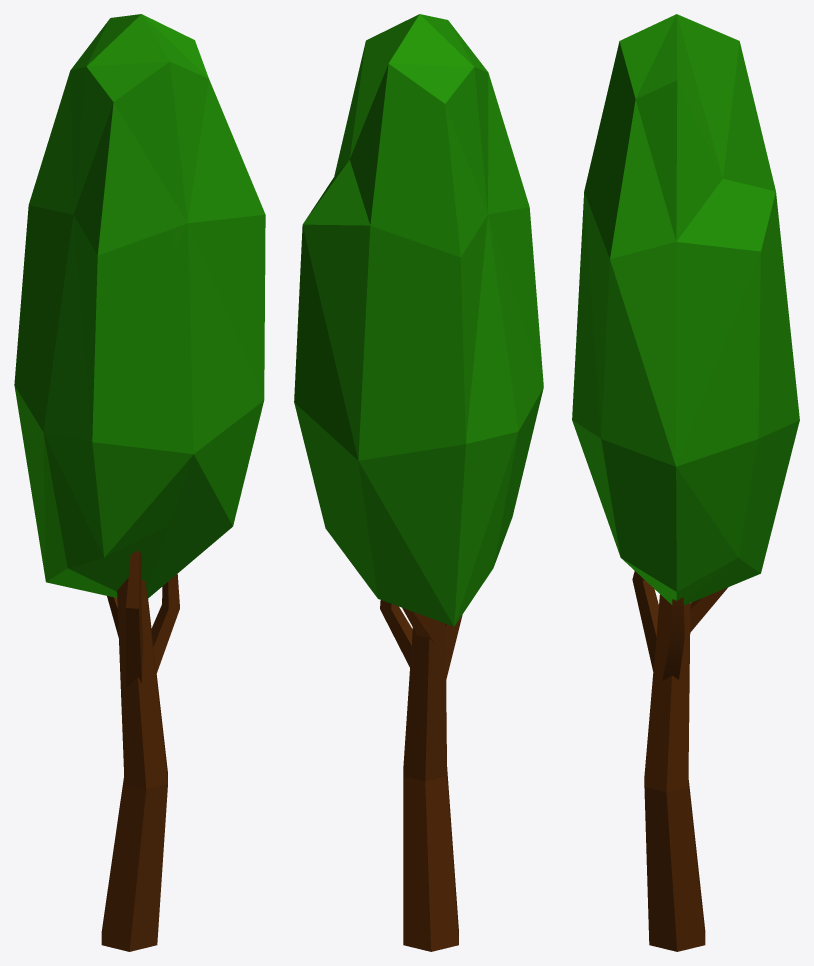
Rendered from Tree_temp_climate_004.FBX.
3 views of the same model, side by side, from view 1: azimuth 30°, elevation 25°; view 2: azimuth 150°, elevation 25°; view 3: azimuth 270°, elevation 25° (orthographic).
Visible parts, largest first — view 1: Tree_temp_climate_004; view 2: Tree_temp_climate_004; view 3: Tree_temp_climate_004.
Part boxes in pixels (x1=…): Tree_temp_climate_004: x1=14, y1=14, x2=265, y2=951; Tree_temp_climate_004: x1=294, y1=14, x2=543, y2=951; Tree_temp_climate_004: x1=572, y1=14, x2=799, y2=951.
Bounding box in the file's own units: 153 × 640 × 142.
